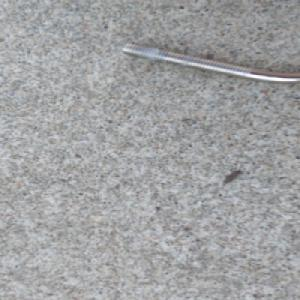ClampPart: (113, 40, 300, 84)
